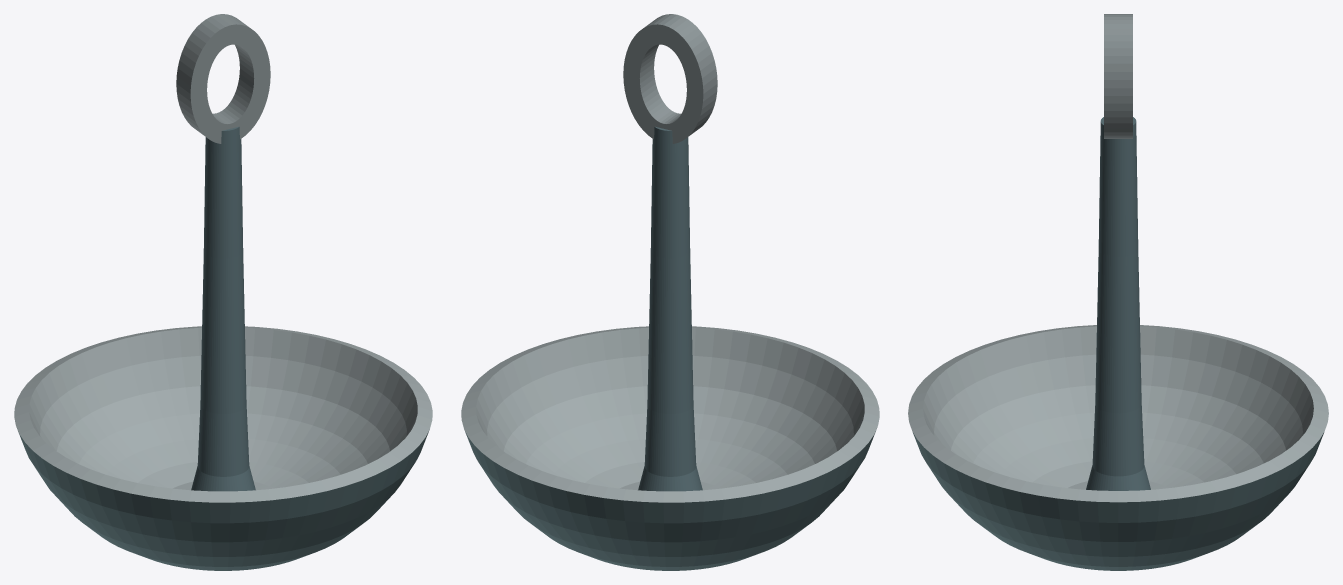
The picture shows the model from 3 angles, left to right: view 1: azimuth 30°, elevation 25°; view 2: azimuth 150°, elevation 25°; view 3: azimuth 270°, elevation 25°; orthographic projection.
Parts seen in each view (by area): view 1: WholeCuppedCrownAndContinuousTaperingShank, WholeVerticalOpenElongatedAttachmentEye; view 2: WholeCuppedCrownAndContinuousTaperingShank, WholeVerticalOpenElongatedAttachmentEye; view 3: WholeCuppedCrownAndContinuousTaperingShank, WholeVerticalOpenElongatedAttachmentEye.
Part boxes in pixels (left/top/right/bottom): WholeCuppedCrownAndContinuousTaperingShank: left=14, top=126, right=432, bottom=570; WholeVerticalOpenElongatedAttachmentEye: left=176, top=14, right=270, bottom=143; WholeCuppedCrownAndContinuousTaperingShank: left=461, top=126, right=879, bottom=570; WholeVerticalOpenElongatedAttachmentEye: left=623, top=14, right=717, bottom=143; WholeCuppedCrownAndContinuousTaperingShank: left=908, top=117, right=1328, bottom=570; WholeVerticalOpenElongatedAttachmentEye: left=1104, top=14, right=1132, bottom=138.
Size of the model in its own units: 3.08 by 4.22 by 3.08.
